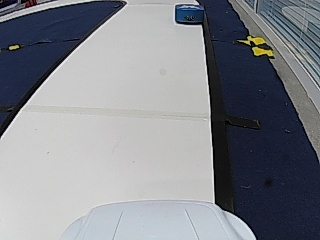prop: (175, 4, 203, 24)
